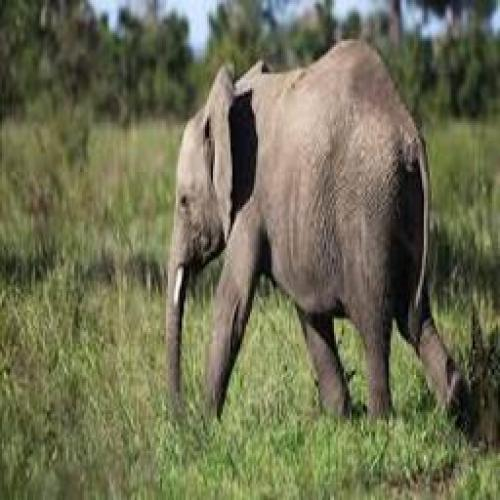african_elephant-endangered: (158, 41, 464, 428)
